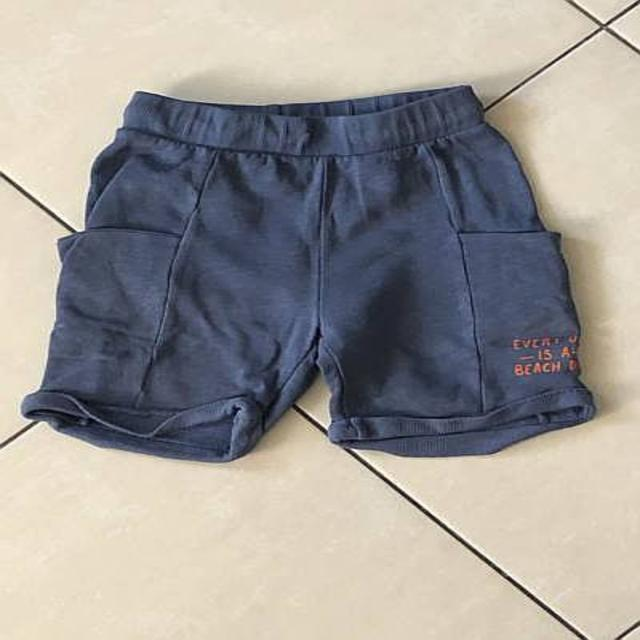SHORT: (12, 82, 634, 470)
